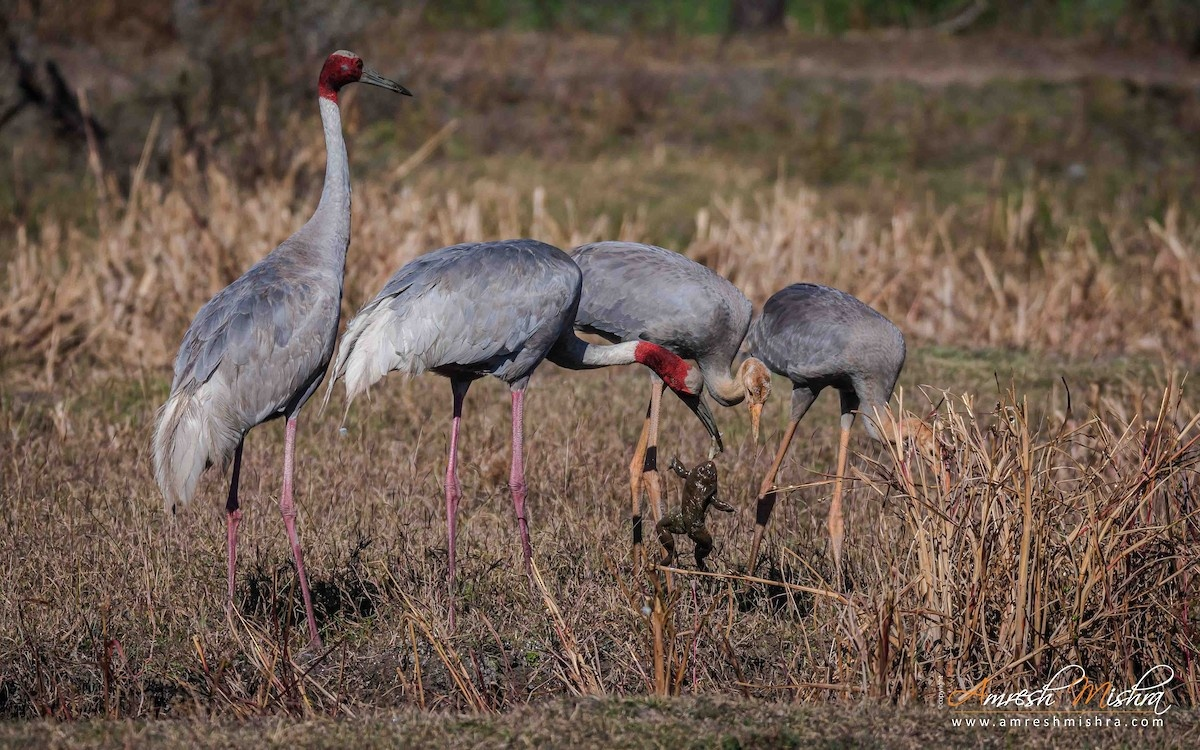crane: (135, 47, 421, 636), (337, 235, 731, 463), (753, 273, 956, 582), (567, 236, 785, 441)
